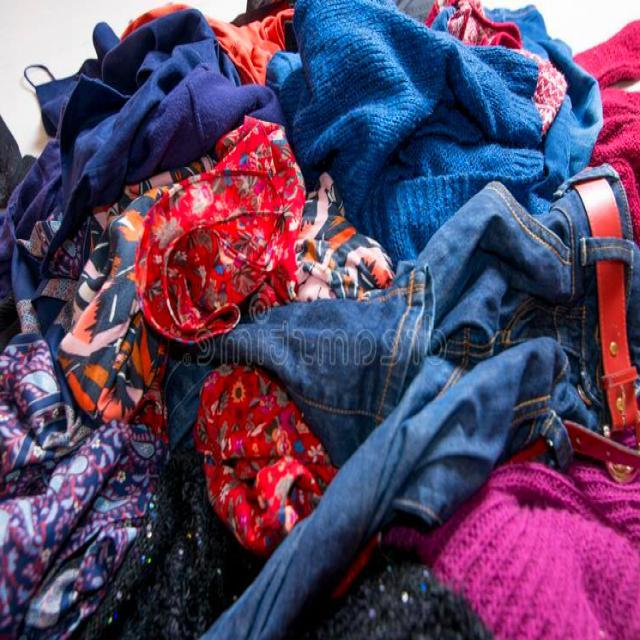clothes: (30, 110, 567, 483)
